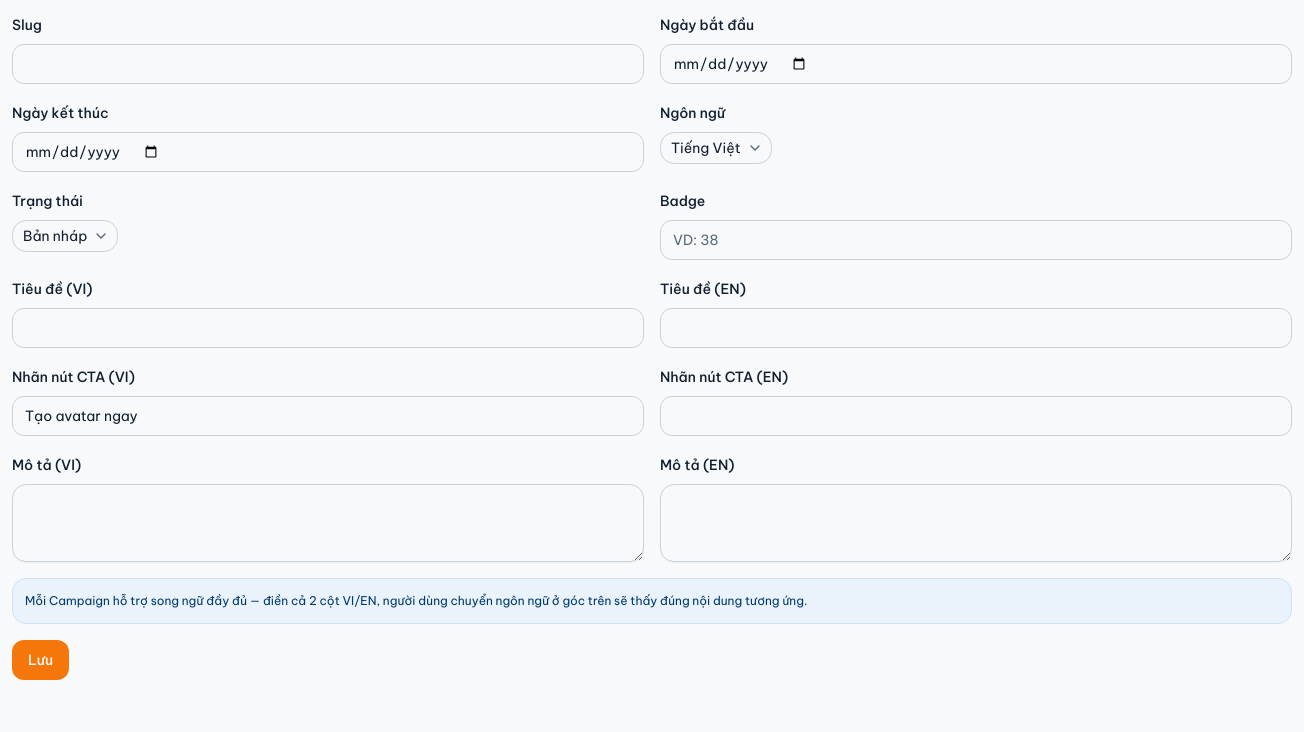
Test case: CampaignForm › does not submit when a required field is missing
Type "techweek-2026" into the field labelled "Slug" at (328, 64), box [12,44,644,84]
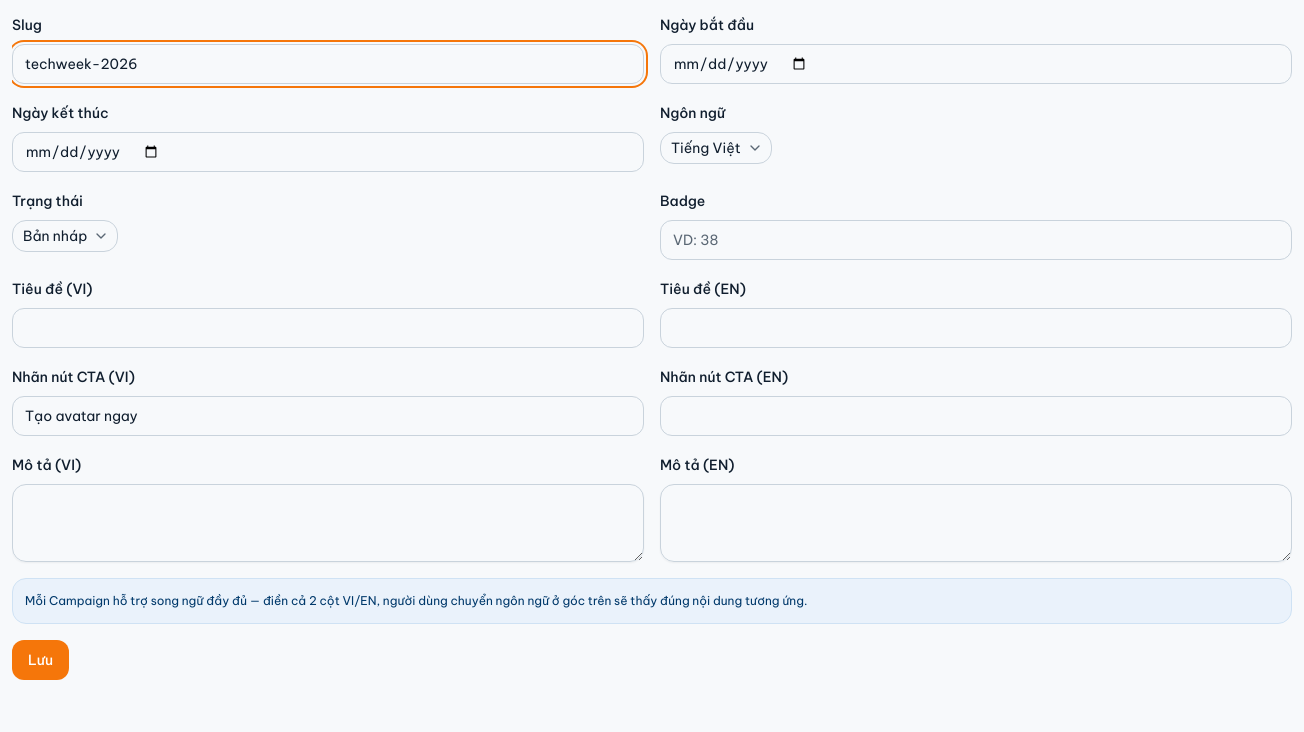
Click the button "Lưu" at (40, 660), box [12,640,69,680]
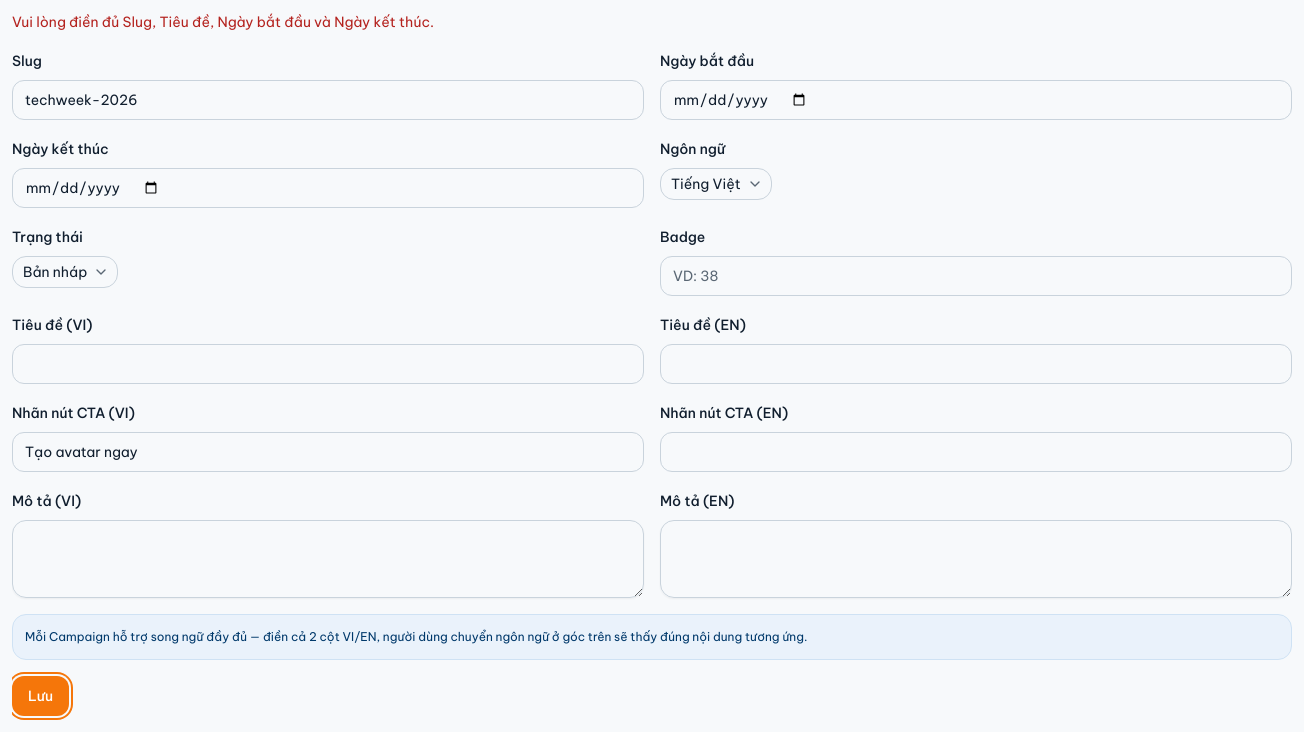
Expected: the message "Vui lòng điền đủ Slug, Tiêu đề, Ngày bắt đầu và Ngày kết thúc." is shown, [12,13,434,31]
